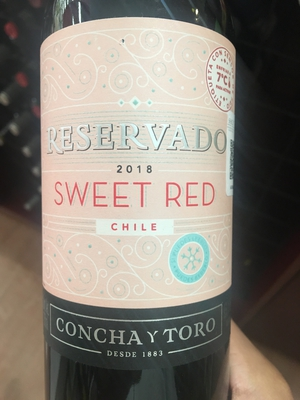reservado sweet red: (39, 6, 246, 400)
